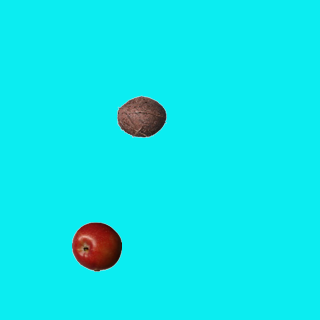Apple Braeburn: (71, 221, 121, 271)
Cocos: (116, 91, 166, 141)
